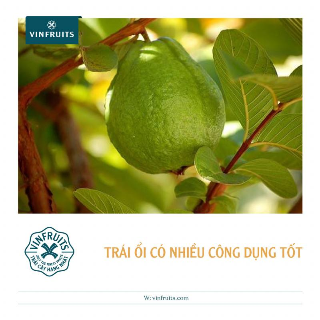oi: (98, 32, 228, 178)
